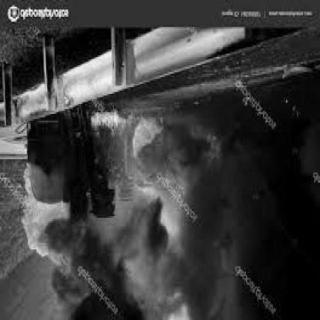Fire: (90, 102, 174, 159), (190, 122, 229, 190), (238, 88, 254, 124)
Smoke: (55, 167, 318, 317)
